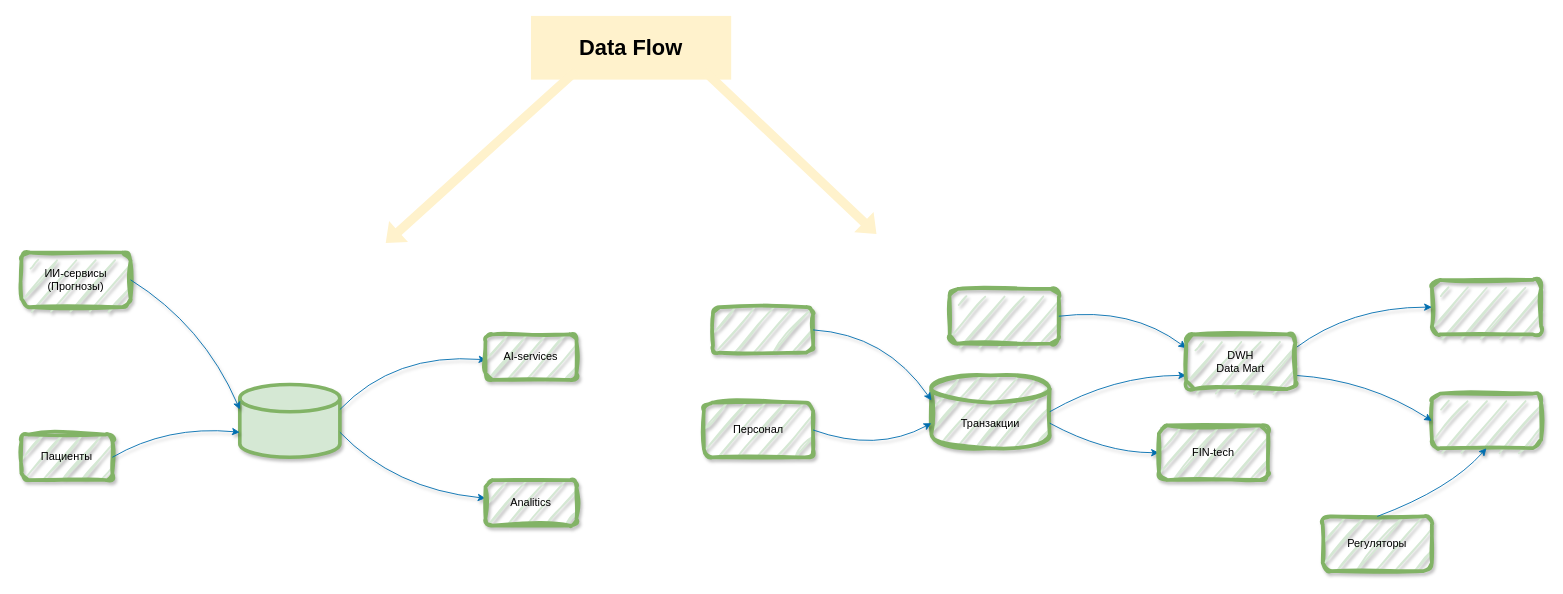
The diagram is 1563 pixels wide and 594 high, and some of its shapes have lost their labels. The shapes that lost their labels are listed below. From the top down, each one's centre as x and y in pixels, then its label:
At (1005,317): "Инвентаризация".
At (1487,308): "BI-портал".
At (763,330): "Банки-партнёры".
At (290,422): "Мед. данные".
At (1487,422): "Отчёты".
